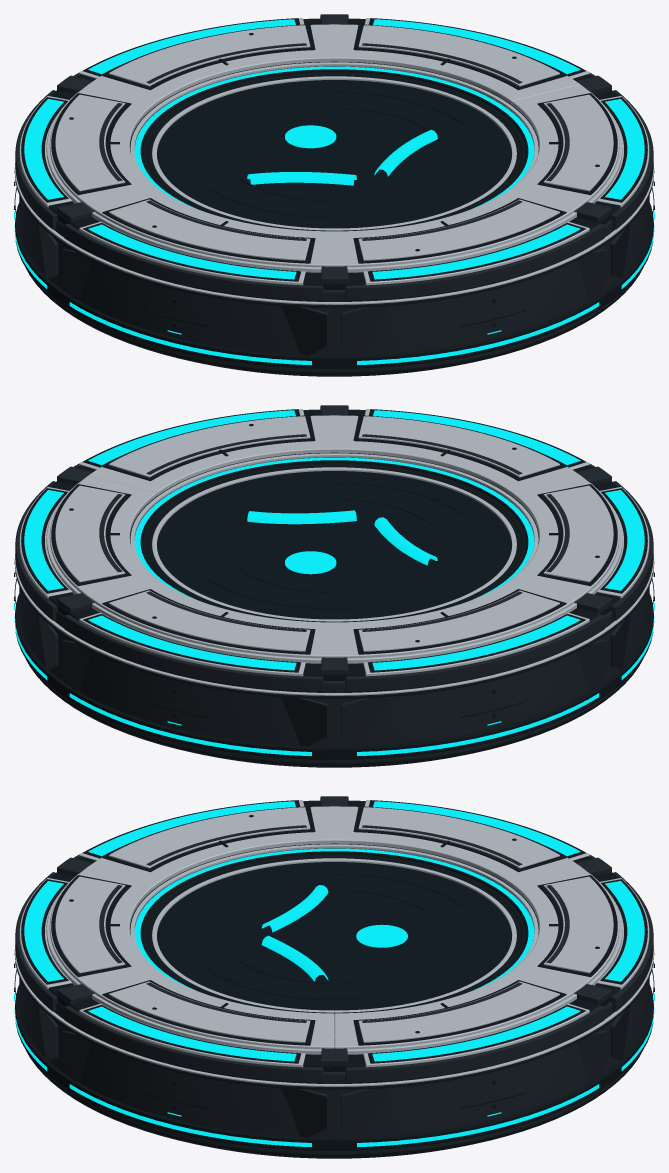
Rendered from Bouncer.fbx.
3 renders of one model, top to bottom at view 1: azimuth 30°, elevation 25°; view 2: azimuth 150°, elevation 25°; view 3: azimuth 270°, elevation 25°, orthographic.
Visible parts, largest first — view 1: SM_Puck_Bouncer; view 2: SM_Puck_Bouncer; view 3: SM_Puck_Bouncer.
Part boxes in pixels (x1,y1,x2,y2): SM_Puck_Bouncer: [14, 14, 654, 376]; SM_Puck_Bouncer: [14, 405, 654, 767]; SM_Puck_Bouncer: [14, 796, 654, 1158].
Bounding box in the file's own units: 86.31 × 86.51 × 16.14.
